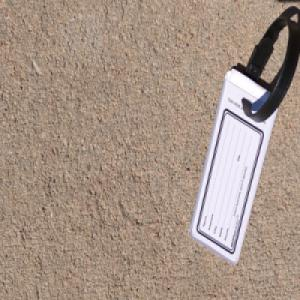LuggageTag: (189, 21, 300, 264)
